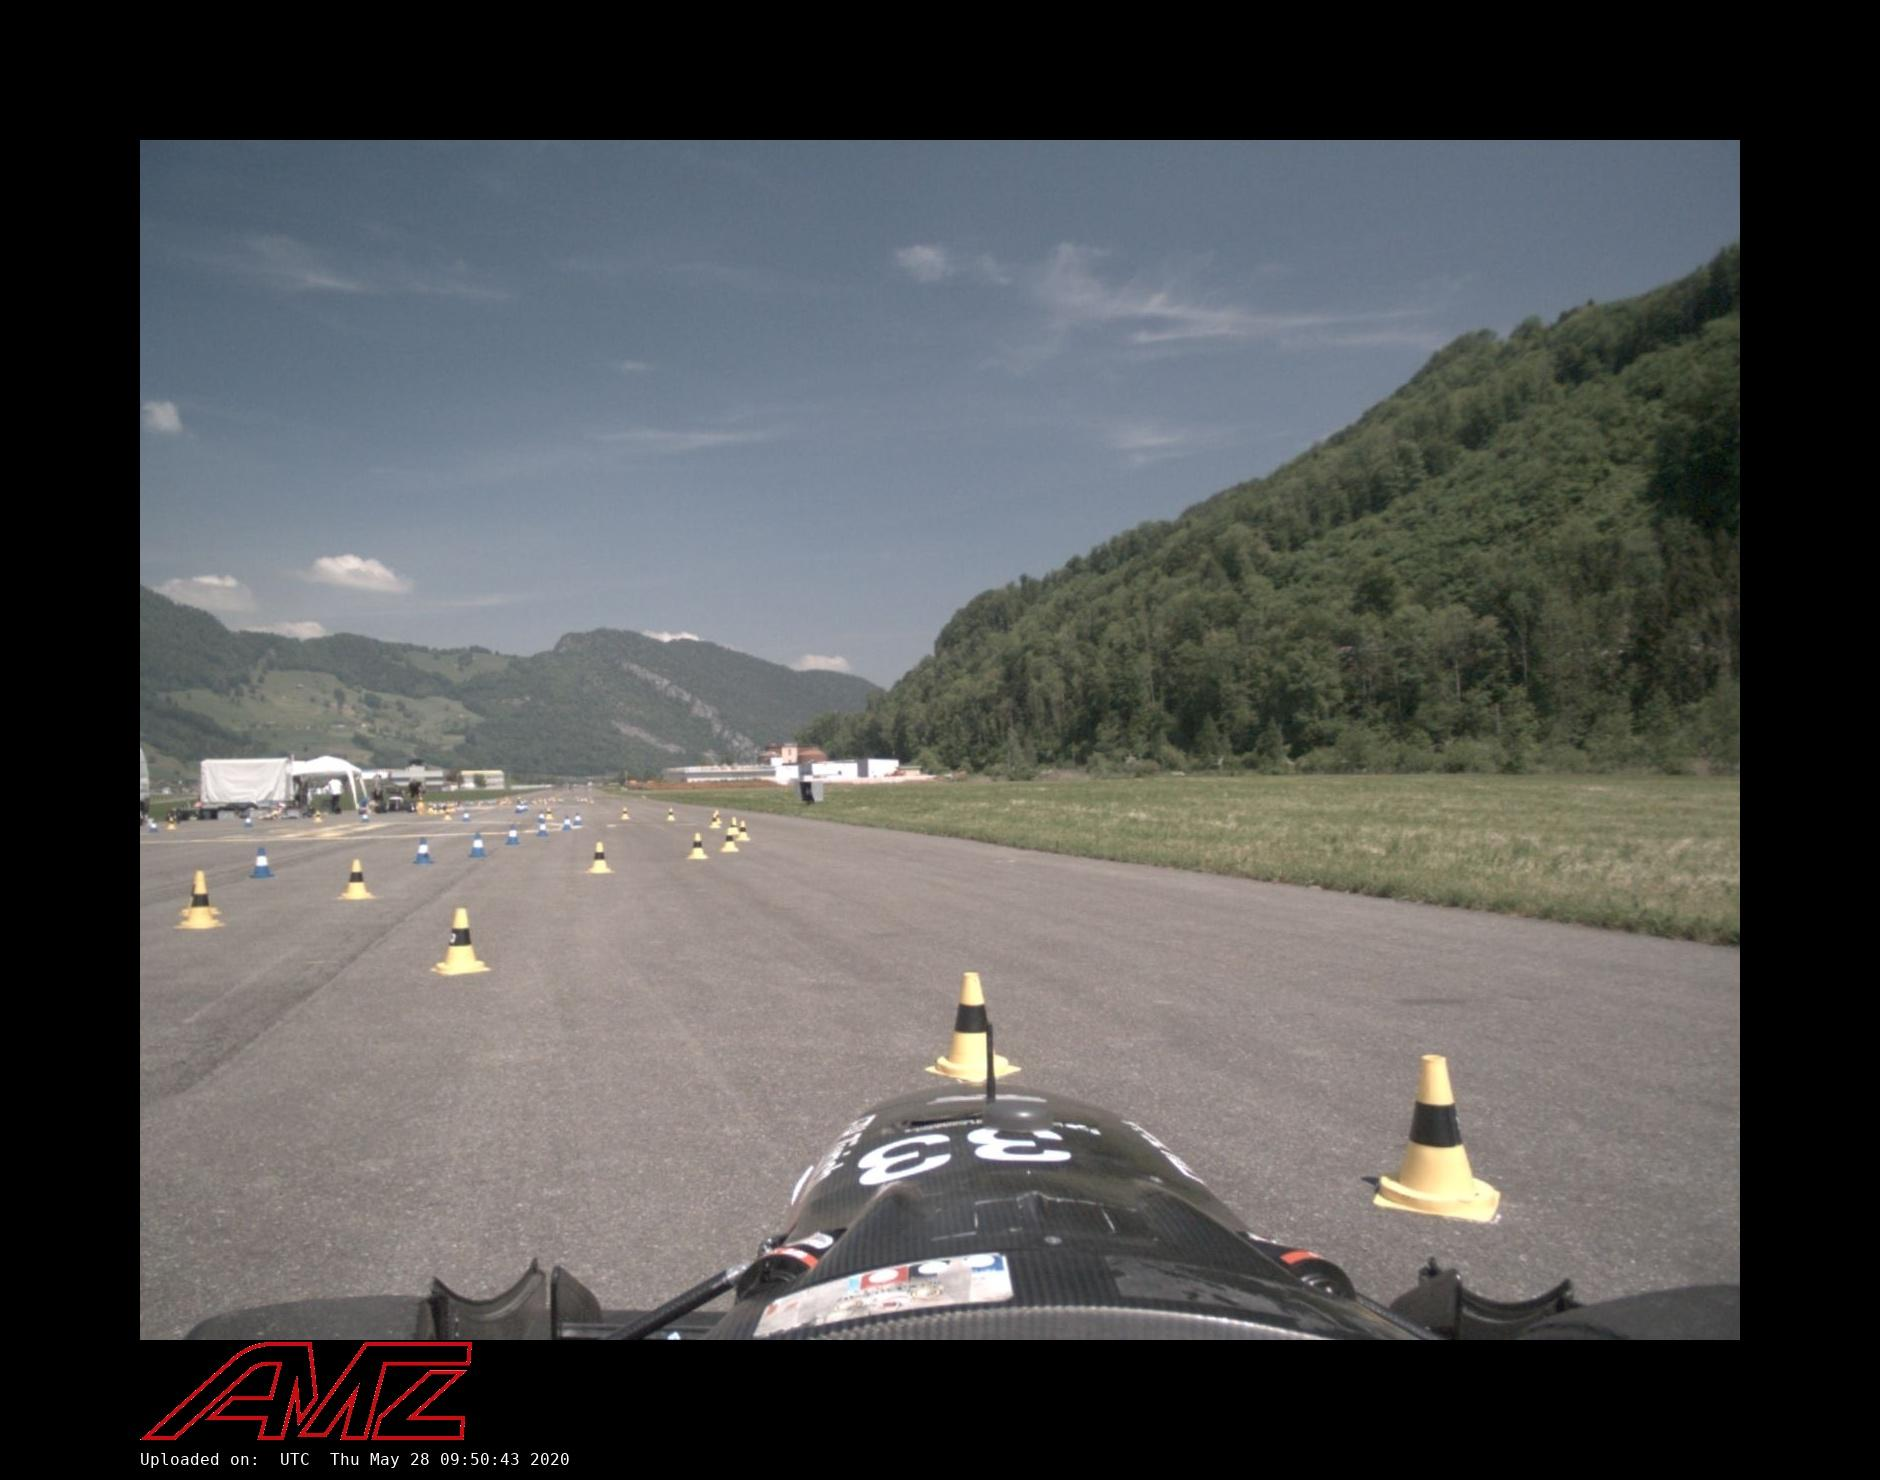blue_cone: (249, 847, 275, 879), (412, 838, 435, 864), (468, 833, 485, 857), (505, 824, 520, 844), (537, 819, 549, 838), (562, 815, 572, 832), (243, 813, 253, 828), (572, 812, 581, 825), (150, 819, 159, 833), (514, 800, 523, 813), (539, 810, 546, 824), (462, 810, 472, 821), (520, 800, 528, 812), (362, 812, 369, 822)
yellow_cone: (1373, 1054, 1502, 1224), (923, 973, 1019, 1082), (430, 909, 491, 976), (172, 877, 224, 931), (179, 873, 221, 917), (339, 861, 374, 900), (587, 842, 610, 874), (687, 832, 710, 861), (720, 828, 740, 851), (736, 821, 751, 841), (728, 816, 740, 835), (710, 813, 720, 828), (713, 812, 723, 824), (166, 816, 177, 828), (545, 807, 554, 819), (665, 809, 674, 821), (443, 809, 452, 821), (314, 810, 324, 822), (621, 807, 629, 819)
